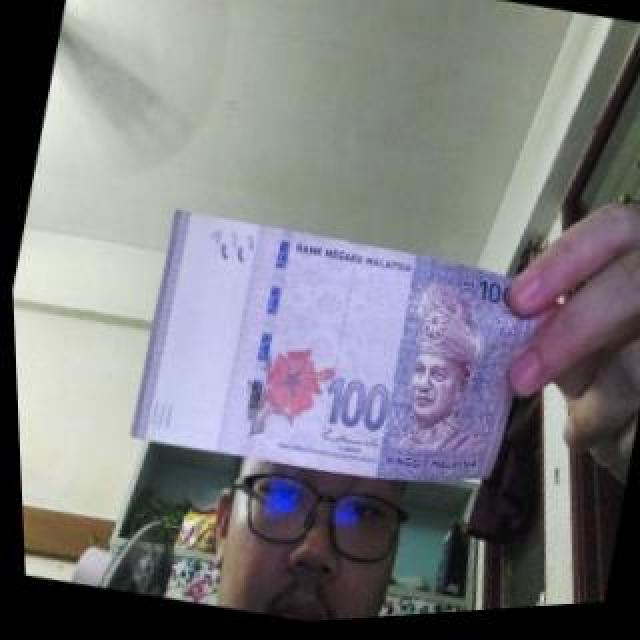100 Ringgit: (114, 194, 553, 524)
